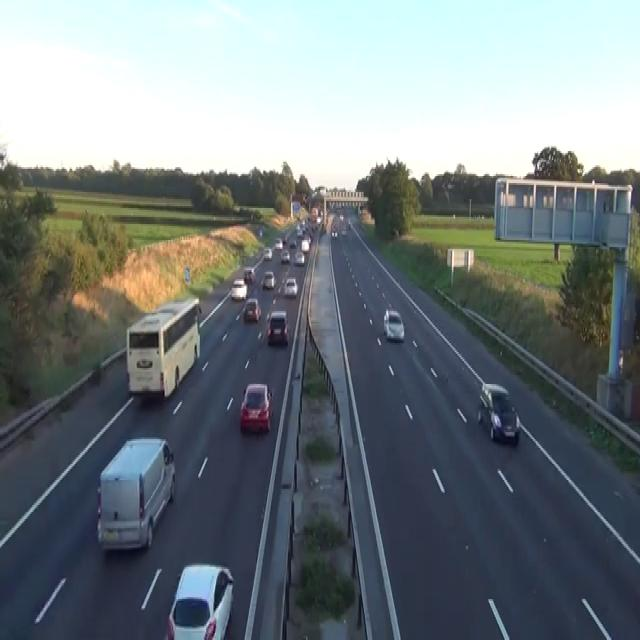Car: (96, 436, 175, 551), (166, 562, 234, 638), (477, 382, 521, 444), (239, 382, 273, 434), (266, 309, 289, 345), (383, 308, 404, 342), (243, 297, 261, 322), (230, 278, 247, 300), (283, 277, 297, 297), (260, 270, 275, 288), (243, 266, 255, 282), (383, 308, 390, 334), (293, 251, 304, 265), (280, 249, 290, 263), (263, 246, 272, 260), (274, 236, 283, 249), (301, 238, 309, 252), (331, 228, 338, 238), (296, 226, 303, 236), (289, 238, 296, 247), (340, 228, 347, 236), (316, 215, 322, 224), (321, 224, 326, 233), (339, 212, 344, 220), (282, 236, 287, 244), (347, 219, 350, 229), (259, 228, 262, 236)
Truck: (125, 295, 201, 398)
